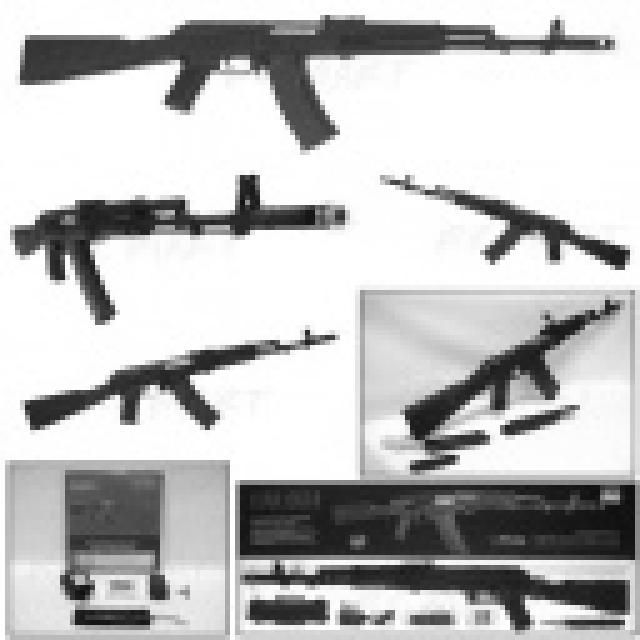Rifle: (0, 0, 640, 154), (0, 155, 365, 335), (355, 240, 640, 450), (189, 535, 640, 640), (0, 302, 368, 426), (346, 142, 640, 294)
